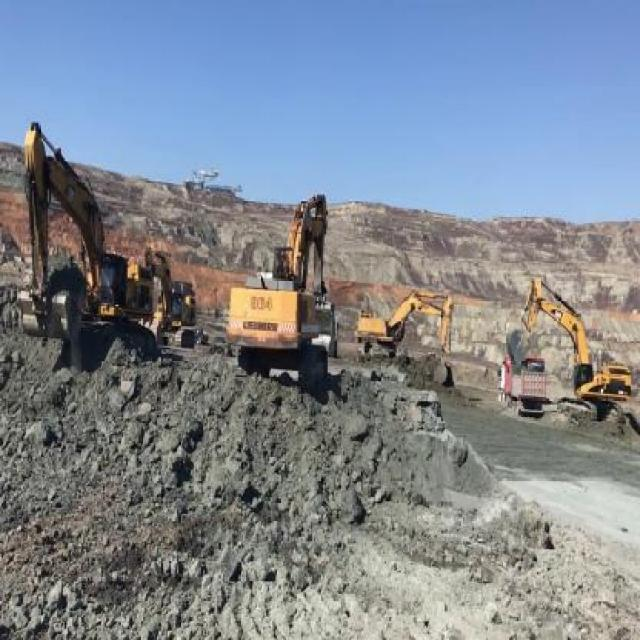Dump Truck: (498, 361, 548, 416)
Excavator: (14, 121, 151, 385), (504, 270, 633, 433), (229, 193, 333, 390), (352, 288, 454, 386), (152, 248, 196, 354)
